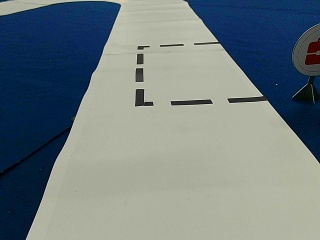company: (292, 24, 320, 74)
